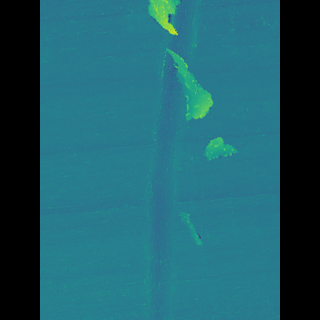Loch: (145, 0, 196, 320), (163, 45, 201, 122), (146, 0, 176, 34), (191, 131, 221, 164)
